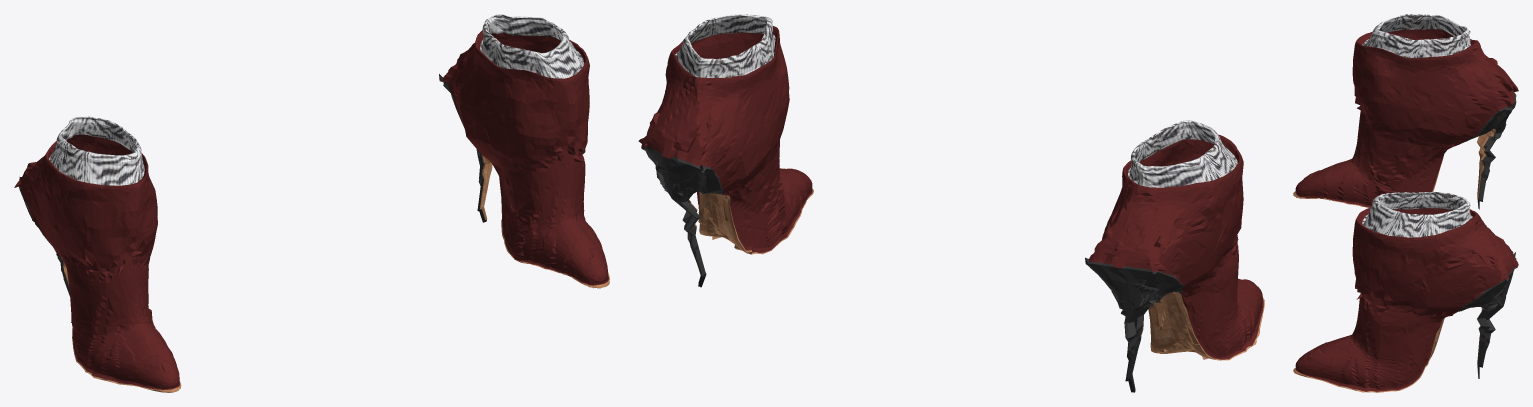
File: mhw_toigo_stiletto_booties.glb
3 views of the same model, side by side, from view 1: azimuth 30°, elevation 25°; view 2: azimuth 150°, elevation 25°; view 3: azimuth 270°, elevation 25° (orthographic). The views are drawn at different scales.
Visible parts, largest first — view 1: mhw_toigo_stiletto_booties; view 2: mhw_toigo_stiletto_booties; view 3: mhw_toigo_stiletto_booties.
Boxes of the visible parts, bbox=[...] form: mhw_toigo_stiletto_booties: bbox=[14, 14, 609, 392]; mhw_toigo_stiletto_booties: bbox=[638, 14, 1264, 392]; mhw_toigo_stiletto_booties: bbox=[1293, 14, 1518, 392].
Size of the model in its own units: 0.5162 by 0.2023 by 0.2285.
1 material, 1 textured.
